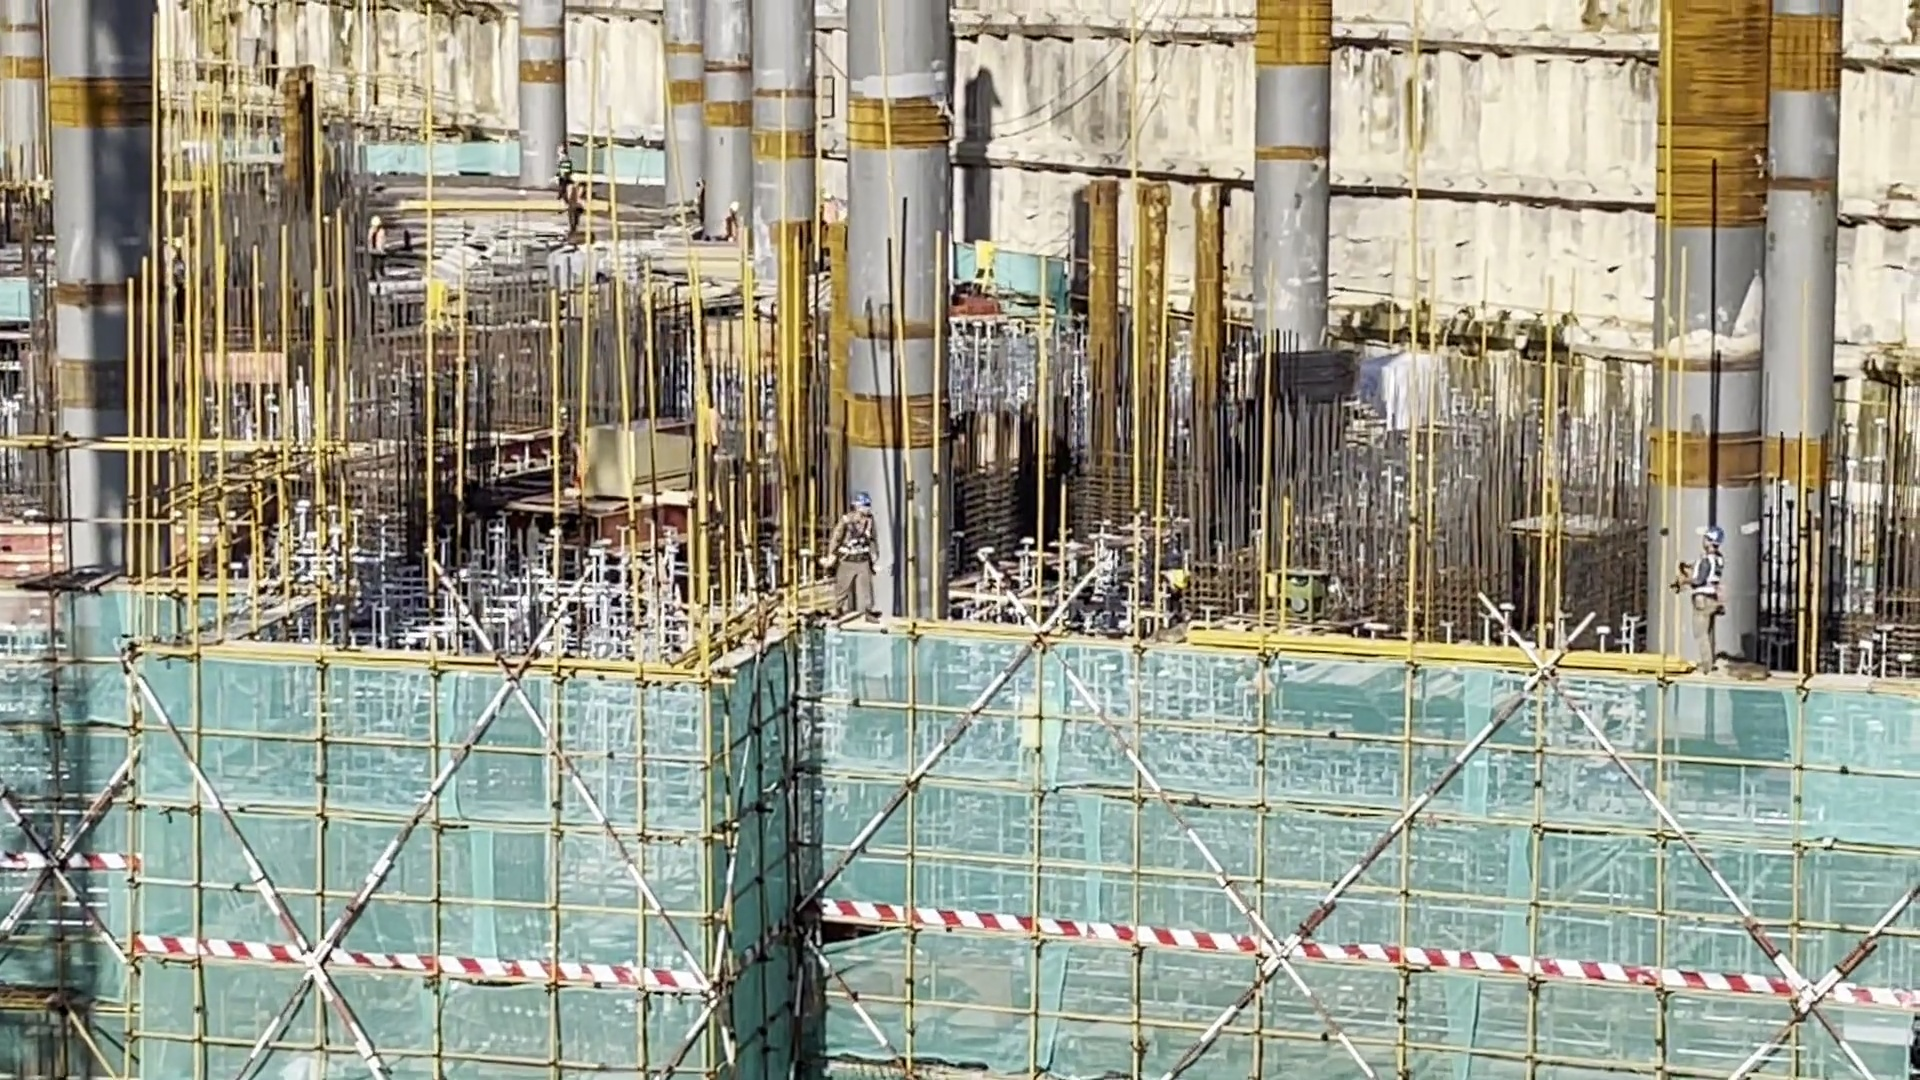board: (583, 409, 708, 506)
ebox: (973, 247, 996, 271)
helmet: (1161, 567, 1188, 592), (846, 489, 874, 509), (1704, 524, 1724, 546), (573, 171, 586, 190), (364, 214, 381, 226), (727, 202, 739, 214), (556, 145, 565, 161)
person: (1673, 526, 1723, 670), (831, 486, 876, 619), (1124, 556, 1176, 635), (559, 425, 593, 501), (691, 178, 719, 256), (366, 213, 393, 273), (561, 178, 581, 243), (723, 198, 746, 245), (553, 141, 573, 190)
vest: (839, 512, 886, 577), (1696, 557, 1724, 617), (569, 447, 586, 486), (371, 228, 389, 261), (568, 185, 582, 215), (554, 160, 569, 180), (726, 219, 738, 238)
